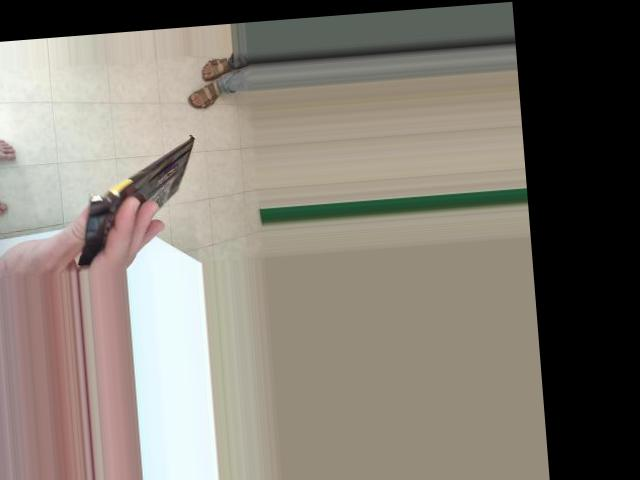chocolate: (47, 72, 185, 227)
